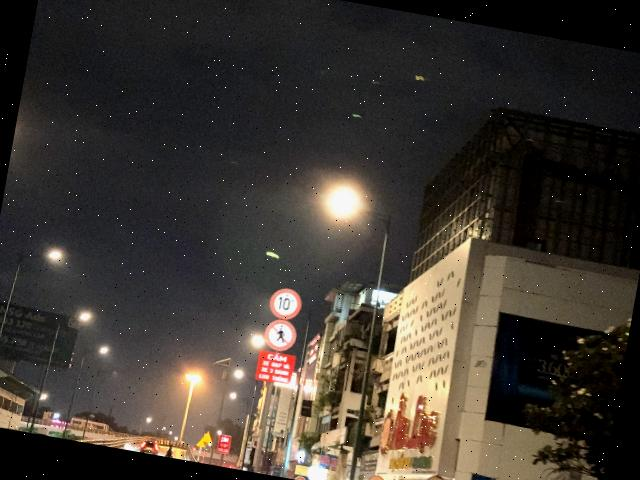cam-nguoi-di-bo: (262, 316, 298, 354)
han-che-trong-luong-xe: (267, 285, 303, 321)
